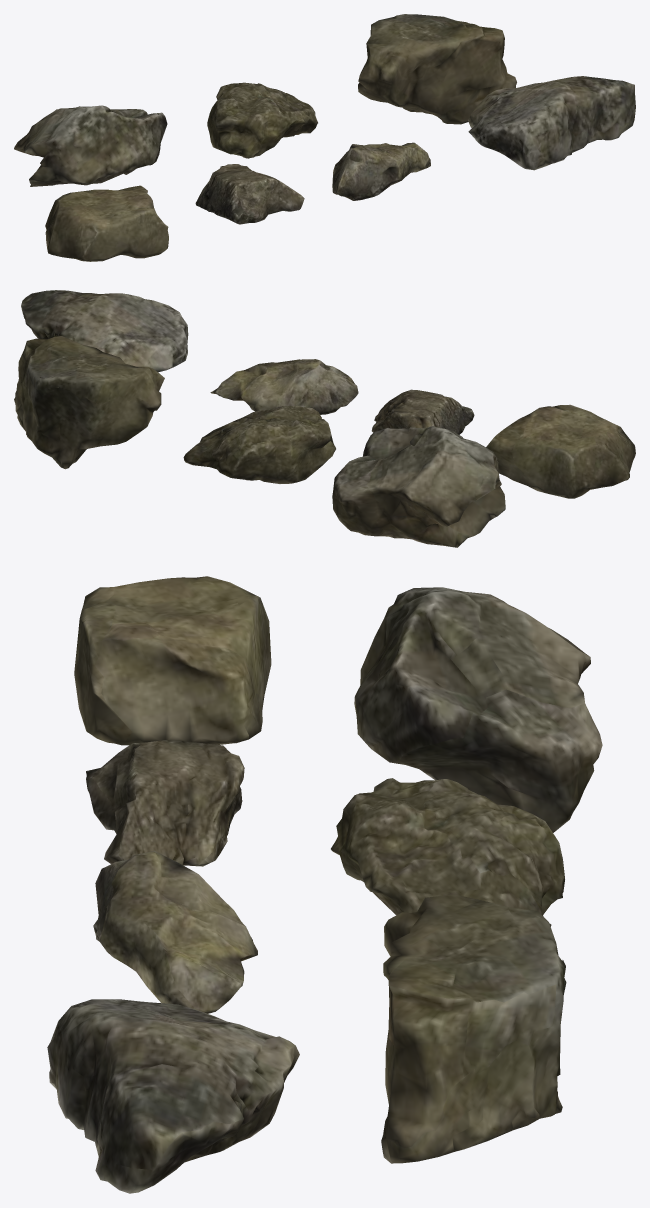
The model's file is rock_moss_set_02.glb.
3 renders of one model, top to bottom at view 1: azimuth 30°, elevation 25°; view 2: azimuth 150°, elevation 25°; view 3: azimuth 270°, elevation 25°, orthographic. The views are drawn at different scales.
Parts seen in each view (by area): view 1: rock_moss_set_02_rock08; view 2: rock_moss_set_02_rock08; view 3: rock_moss_set_02_rock08.
Boxes of the visible parts, bbox=[...] form: rock_moss_set_02_rock08: bbox=[14, 14, 635, 261]; rock_moss_set_02_rock08: bbox=[14, 290, 635, 547]; rock_moss_set_02_rock08: bbox=[47, 576, 602, 1193].
Bounding box in the file's own units: 8.28 × 1.35 × 3.41.
1 material, 1 textured.
